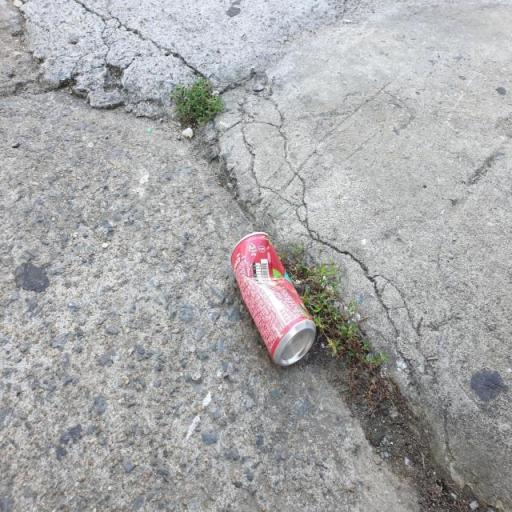metal: (202, 210, 310, 374)
